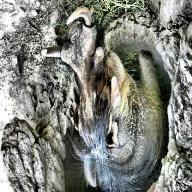boar: (52, 1, 172, 192)
